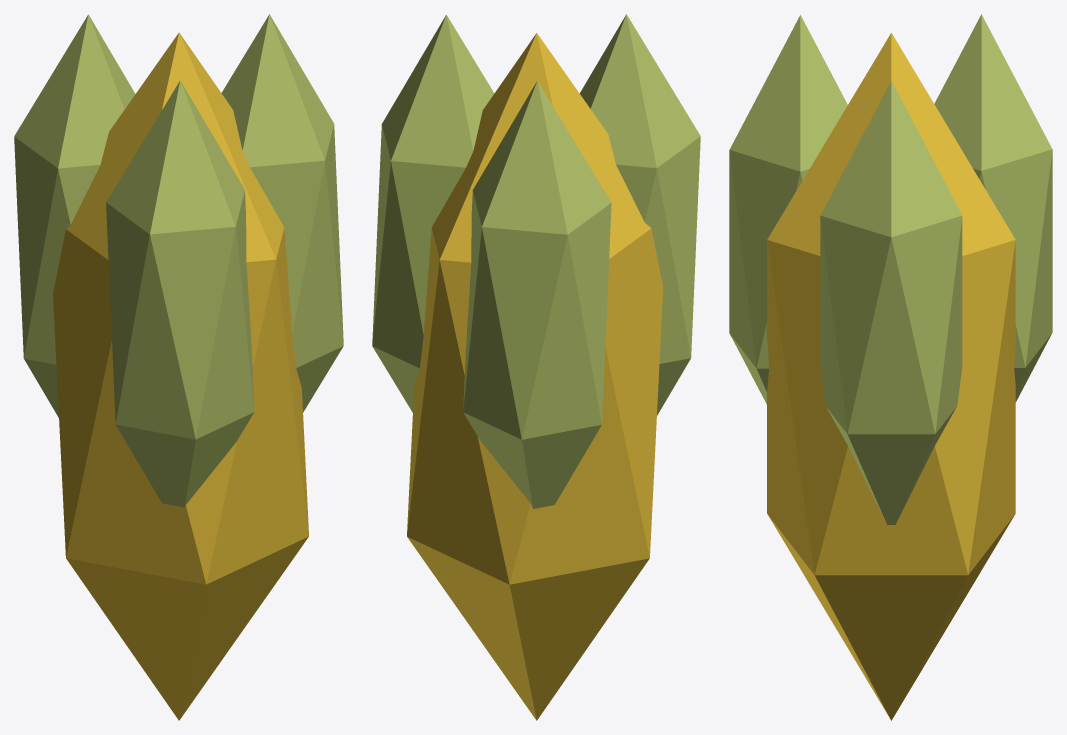
Rendered from f09-hasil-jagung.glb.
3 renders of one model, left to right at view 1: azimuth 30°, elevation 25°; view 2: azimuth 150°, elevation 25°; view 3: azimuth 270°, elevation 25°, orthographic.
Visible parts, largest first — view 1: EX_kebun:kelobot.001, EX_kebun:tongkol.001; view 2: EX_kebun:kelobot.001, EX_kebun:tongkol.001; view 3: EX_kebun:kelobot.001, EX_kebun:tongkol.001.
Part boxes in pixels (box(x1,y1,x2,y2)): EX_kebun:kelobot.001: box(14, 14, 343, 507); EX_kebun:tongkol.001: box(53, 32, 308, 720); EX_kebun:kelobot.001: box(372, 14, 700, 508); EX_kebun:tongkol.001: box(407, 33, 663, 720); EX_kebun:kelobot.001: box(729, 14, 1052, 524); EX_kebun:tongkol.001: box(767, 33, 1015, 720).
Bounding box in the file's own units: 0.0742 × 0.182 × 0.0774.
